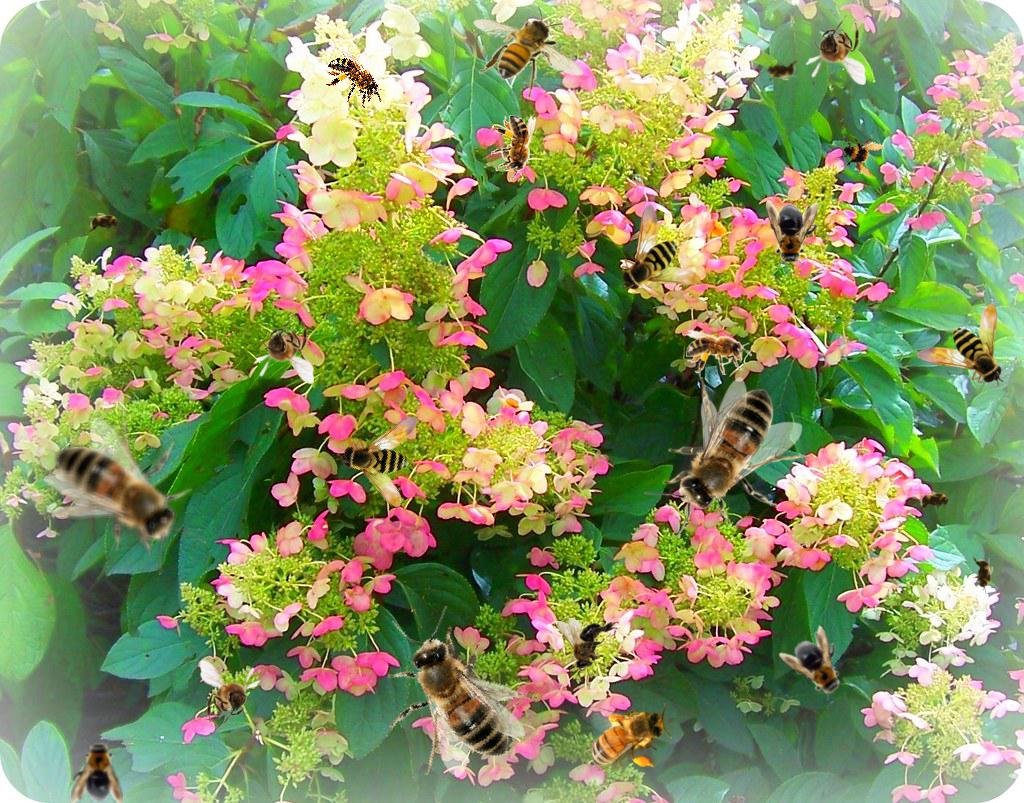Bee: (348, 590, 557, 802), (644, 377, 811, 539), (44, 408, 206, 575), (332, 394, 454, 516), (473, 5, 584, 99), (777, 623, 861, 709), (619, 204, 701, 292), (916, 304, 1004, 386), (579, 703, 672, 771), (316, 44, 396, 119), (253, 314, 314, 384), (200, 660, 261, 730), (805, 15, 866, 85), (766, 200, 818, 268), (71, 738, 123, 803), (557, 618, 619, 671), (832, 125, 888, 181), (686, 330, 752, 375), (491, 115, 536, 181), (761, 59, 801, 81), (972, 554, 994, 594), (915, 490, 955, 512), (85, 212, 125, 234)
